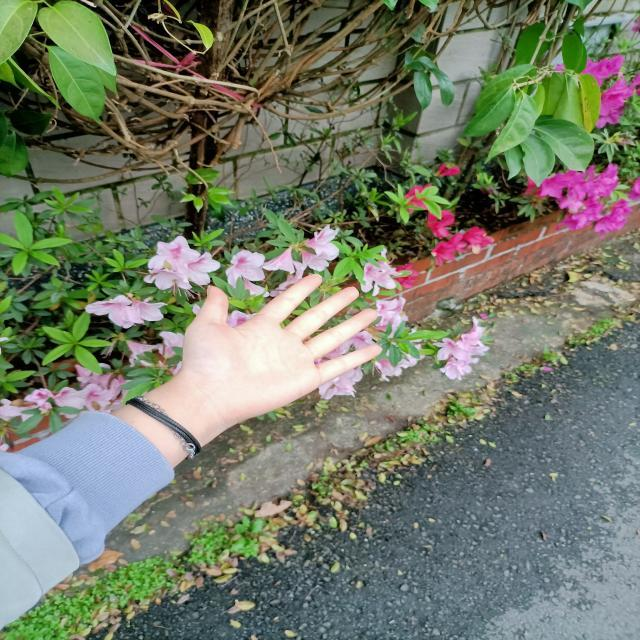Hand: (126, 270, 391, 446)
